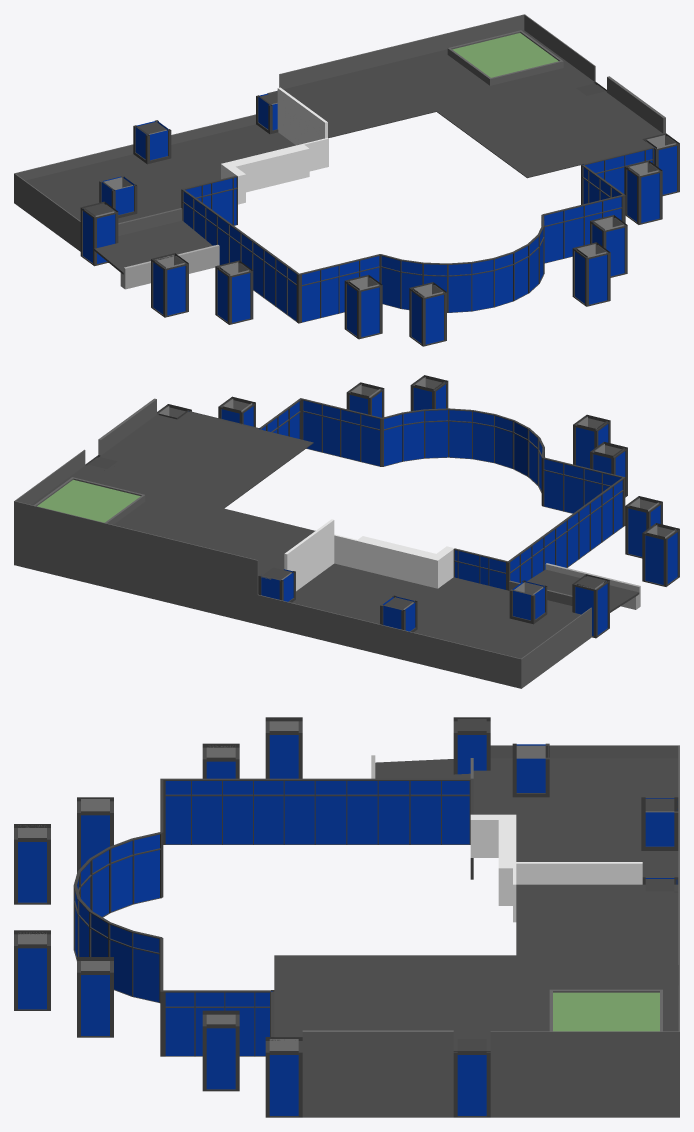
The model's file is floor2.glb.
3 renders of one model, top to bottom at view 1: azimuth 30°, elevation 25°; view 2: azimuth 150°, elevation 25°; view 3: azimuth 270°, elevation 25°, orthographic. The views are drawn at different scales.
Visible parts, largest first — view 1: Floor plans Parking Level 2 (1), Floor plans Parking Level 2 Window Glass, Floor plans Parking Level 2 Walls, Floor plans Parking Level 2 Window Joinery; view 2: Floor plans Parking Level 2 (1), Floor plans Parking Level 2 Walls, Floor plans Parking Level 2 Window Glass, Floor plans Parking Level 2 Window Joinery; view 3: Floor plans Parking Level 2 (1), Floor plans Parking Level 2 Walls, Floor plans Parking Level 2 Window Glass, Floor plans Parking Level 2 Window Joinery.
Boxes of the visible parts, x1,y1,x2,y2 form: Floor plans Parking Level 2 (1): [25, 30, 679, 346]; Floor plans Parking Level 2 Window Glass: [183, 147, 654, 322]; Floor plans Parking Level 2 Walls: [14, 14, 665, 251]; Floor plans Parking Level 2 Window Joinery: [181, 147, 653, 323]; Floor plans Parking Level 2 (1): [32, 375, 679, 658]; Floor plans Parking Level 2 Walls: [14, 398, 591, 688]; Floor plans Parking Level 2 Window Glass: [188, 400, 622, 589]; Floor plans Parking Level 2 Window Joinery: [189, 398, 625, 590]; Floor plans Parking Level 2 (1): [14, 717, 678, 1117]; Floor plans Parking Level 2 Walls: [302, 745, 679, 1117]; Floor plans Parking Level 2 Window Glass: [75, 781, 469, 1055]; Floor plans Parking Level 2 Window Joinery: [73, 778, 473, 1056].
Bounding box in the file's own units: 38.44 × 4.63 × 32.24.
